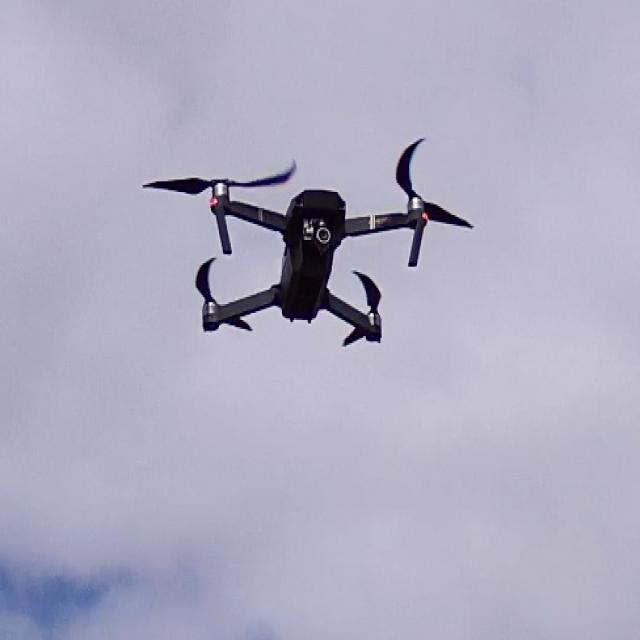drone: (133, 131, 493, 384)
